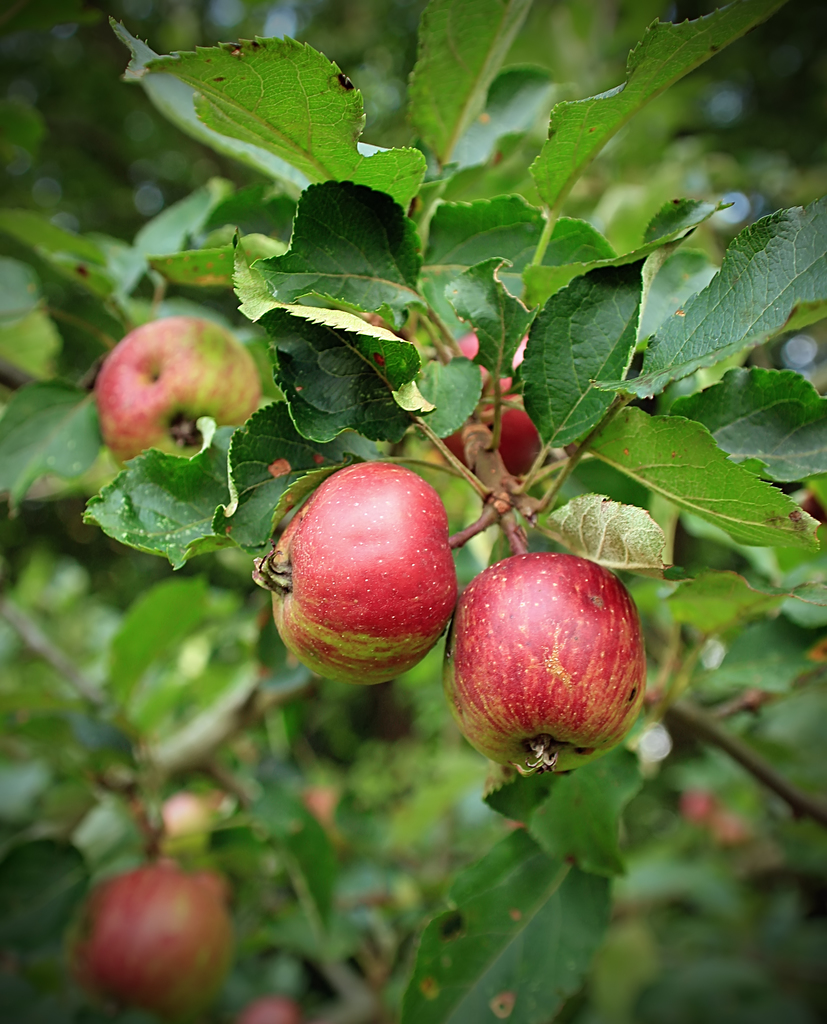Apple: (436, 546, 655, 780), (255, 462, 456, 690), (88, 314, 261, 466), (74, 865, 235, 1017), (433, 326, 557, 480)
